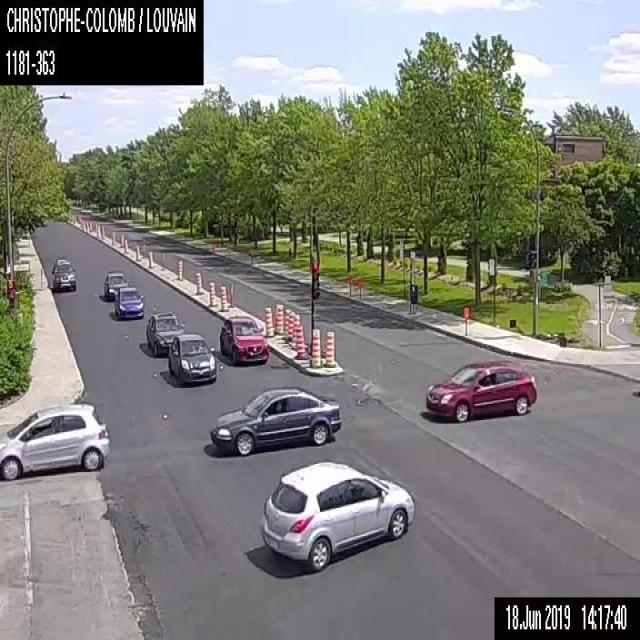construction: (294, 323, 308, 359), (310, 328, 322, 368), (324, 330, 335, 368), (291, 313, 301, 349), (264, 306, 274, 336), (274, 302, 283, 334), (283, 308, 291, 341), (219, 284, 228, 312), (208, 280, 217, 305), (286, 310, 292, 345), (195, 272, 202, 294), (176, 259, 182, 280), (135, 243, 140, 260), (148, 250, 152, 267), (120, 232, 123, 246), (124, 238, 127, 252), (111, 231, 114, 243)
vehicle: (259, 459, 416, 573), (208, 383, 342, 457), (0, 402, 109, 482), (423, 357, 537, 423), (217, 314, 269, 366), (168, 334, 216, 386), (143, 310, 183, 356), (113, 284, 145, 320), (103, 270, 130, 301), (52, 258, 76, 290)
